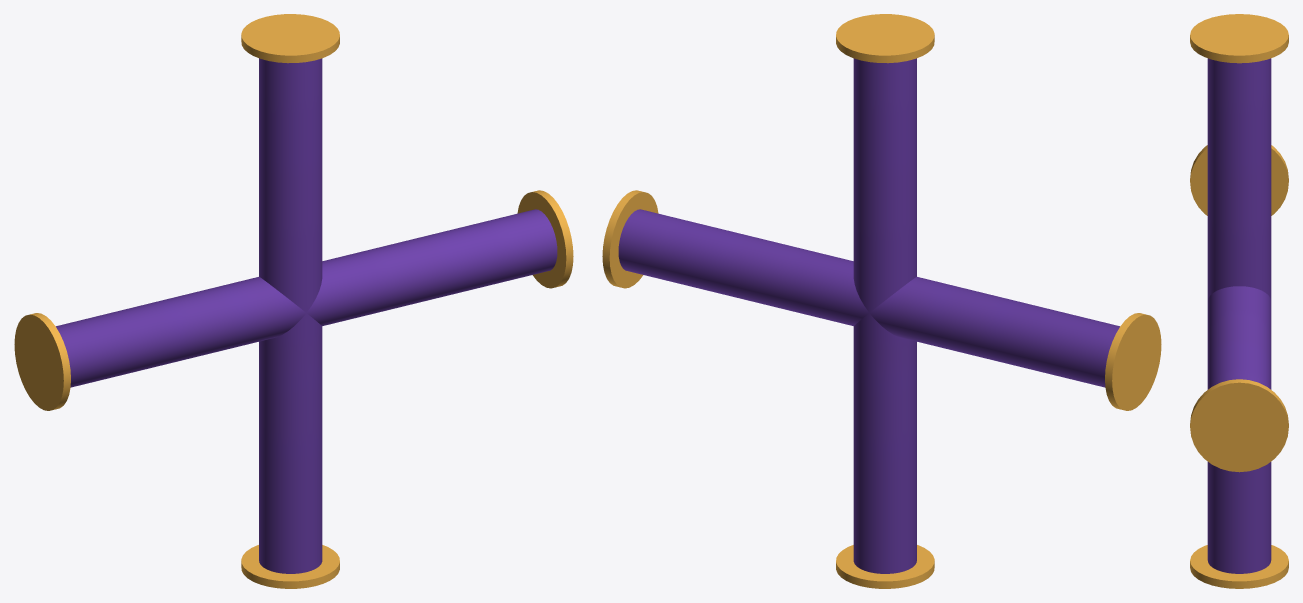
File: pipe4.fbx
3 renders of one model, left to right at view 1: azimuth 30°, elevation 25°; view 2: azimuth 150°, elevation 25°; view 3: azimuth 270°, elevation 25°, orthographic.
Parts seen in each view (by area): view 1: pipe4; view 2: pipe4; view 3: pipe4.
Boxes of the visible parts, <box> form: pipe4: <box>14,14,573,588</box>; pipe4: <box>602,14,1161,588</box>; pipe4: <box>1190,14,1288,588</box>.
Bounding box in the file's own units: 9.83 × 1.65 × 9.83.
Materials: 2 (1 with a texture image).
